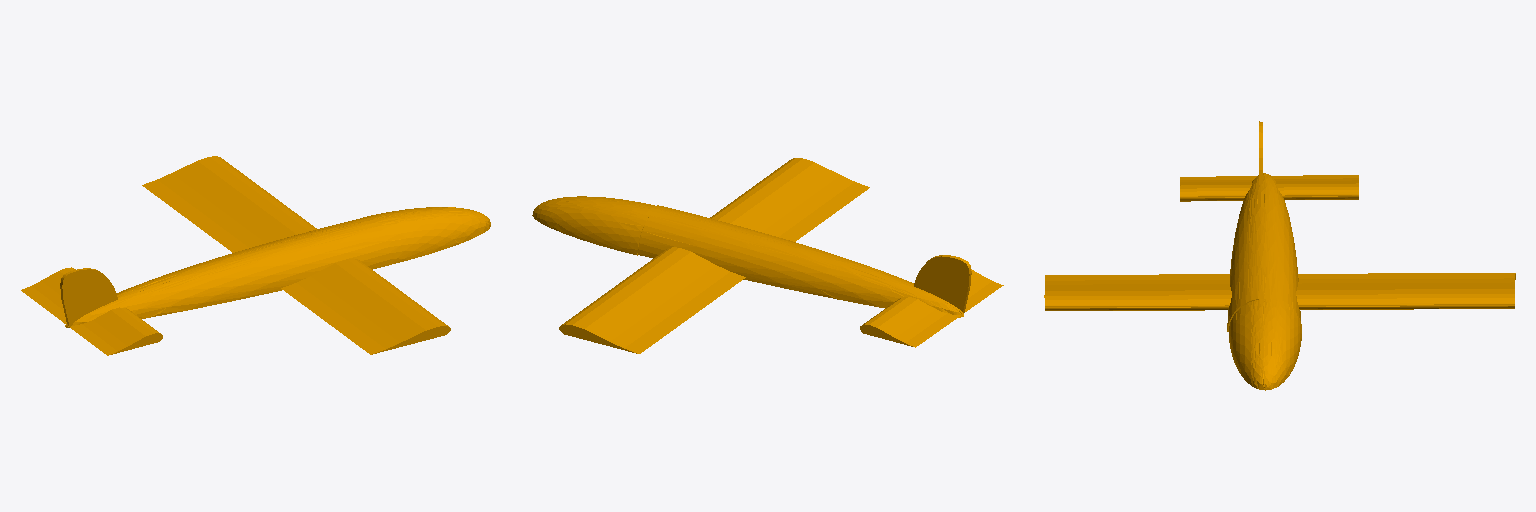
URDF robot description (example_robot):
<?xml version="1.0" ?>
<robot name="example_robot" xmlns:xacro="http://www.ros.org/wiki/xacro">
  <link name="plane_urdf">
    <inertial>
      <mass value="1"/>
      <origin xyz="0 0 0"/>
      <inertia ixx="1" ixy="0.0" ixz="0.0" iyy="1" iyz="0.0" izz="1"/>
    </inertial>
    <visual>
      <origin rpy="0 0 0" xyz="0 0 0"/>
      <geometry>
        <mesh filename="package://gazebo_example/meshes/plane.dae"/>
      </geometry>
    </visual>
    <collision>
      <origin rpy="0 0 0" xyz="0 0 0"/>
      <geometry>
        <mesh filename="package://gazebo_example/meshes/plane.dae"/>
      </geometry>
    </collision>
  </link>
</robot>

--- What the picture shows (computed from the rendered views, not written in the file) ---
3 views of the same robot in one strip: view 1: azimuth 30°, elevation 25°; view 2: azimuth 150°, elevation 25°; view 3: azimuth 270°, elevation 25° (orthographic).
Robot: example_robot — 1 links, 0 joints (none); root link plane_urdf; default pose: all joints at 0.
Links seen in each view (by area): view 1: plane_urdf; view 2: plane_urdf; view 3: plane_urdf.
Boxes of the visible links, x1,y1,x2,y2 form: plane_urdf: (21, 156, 490, 355); plane_urdf: (532, 158, 1003, 353); plane_urdf: (1044, 121, 1515, 390).
Bounding box of the posed robot: 0.9157 × 0.8439 × 0.1135 m (x, y, z).
Meshes: 1 distinct files referenced, 1 mesh visuals loaded (1 Collada DAE).
